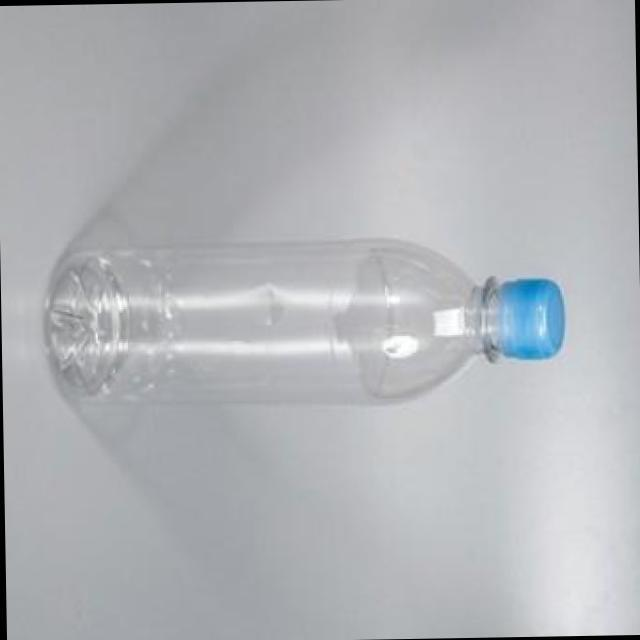good: (24, 217, 588, 426)
